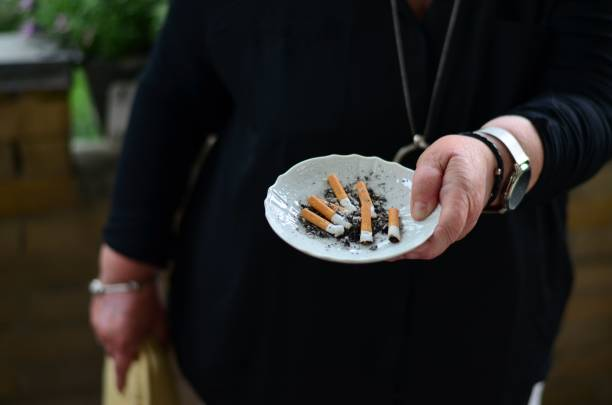cigarette: (307, 194, 354, 230), (299, 206, 347, 236), (326, 172, 357, 215), (355, 180, 378, 222), (358, 201, 377, 246), (321, 198, 355, 221), (385, 207, 403, 243)
